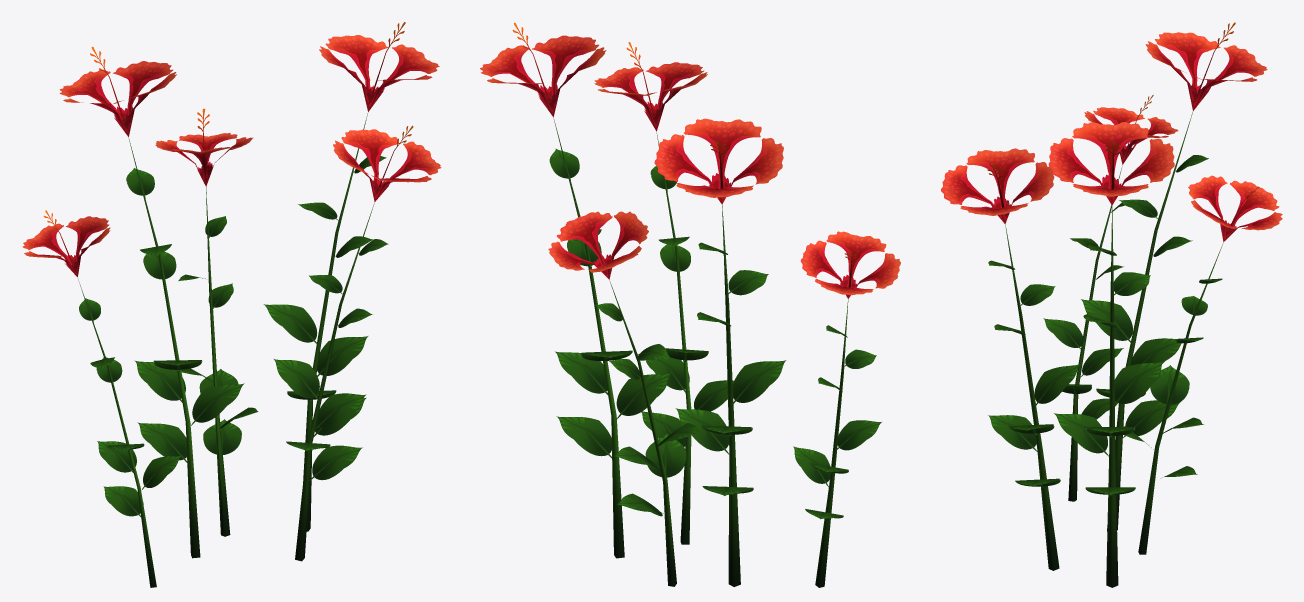
Rendered from Flower_13c.FBX.
The picture shows the model from 3 angles, left to right: view 1: azimuth 30°, elevation 25°; view 2: azimuth 150°, elevation 25°; view 3: azimuth 270°, elevation 25°; orthographic projection. The views are drawn at different scales.
Parts seen in each view (by area): view 1: Flower_13c; view 2: Flower_13c; view 3: Flower_13c.
Part boxes in pixels (<box>): Flower_13c: <box>22,22,441,587</box>; Flower_13c: <box>480,22,900,587</box>; Flower_13c: <box>941,22,1282,587</box>.
Bounding box in the file's own units: 32.95 × 36.95 × 23.79.
